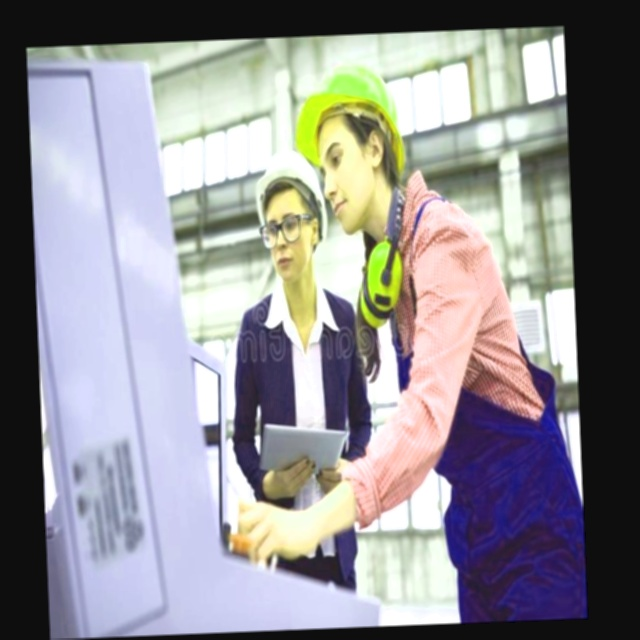Con_Casco: (297, 61, 402, 233)
